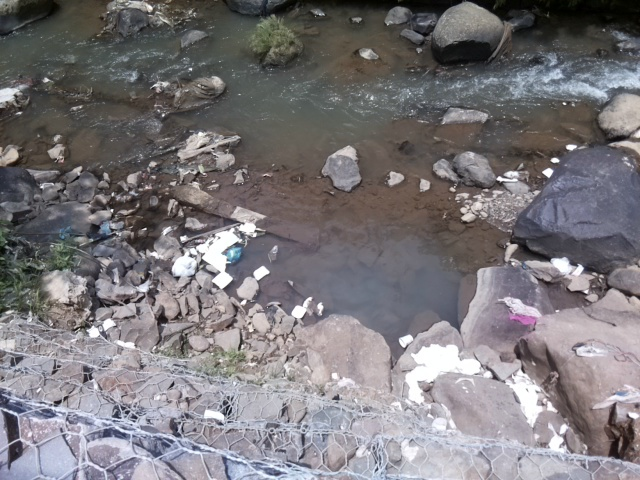Sampah_Plastik: (402, 342, 479, 405), (505, 368, 556, 426), (501, 294, 544, 329), (590, 385, 639, 408), (172, 250, 197, 277), (552, 256, 575, 274), (227, 246, 244, 263)
Sampah_Styrofoam: (200, 226, 236, 271), (210, 272, 235, 289), (251, 263, 271, 281), (292, 304, 306, 320)
